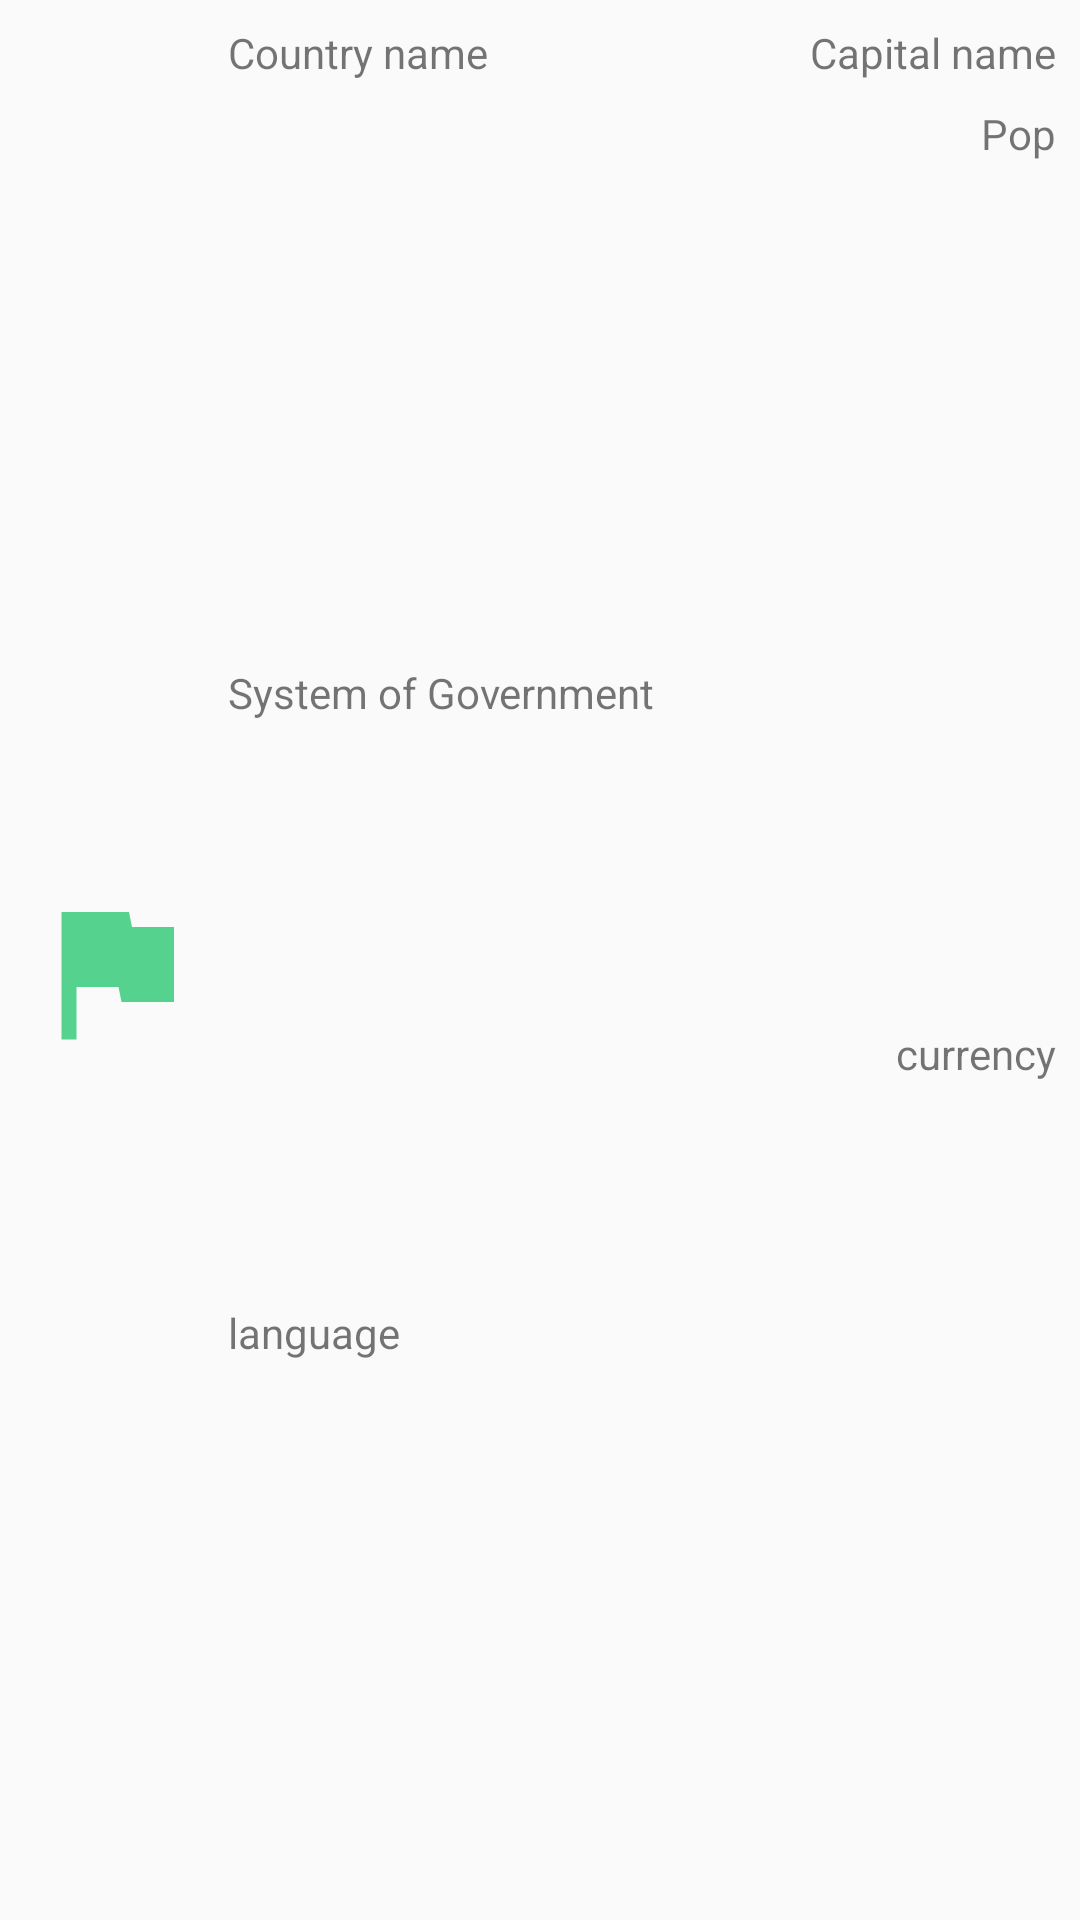

Locate icon controls on the screen. Image size 1080 × 1920, boxes as (x1, y1, x2, y2).
flag: (61, 912, 174, 1040)
